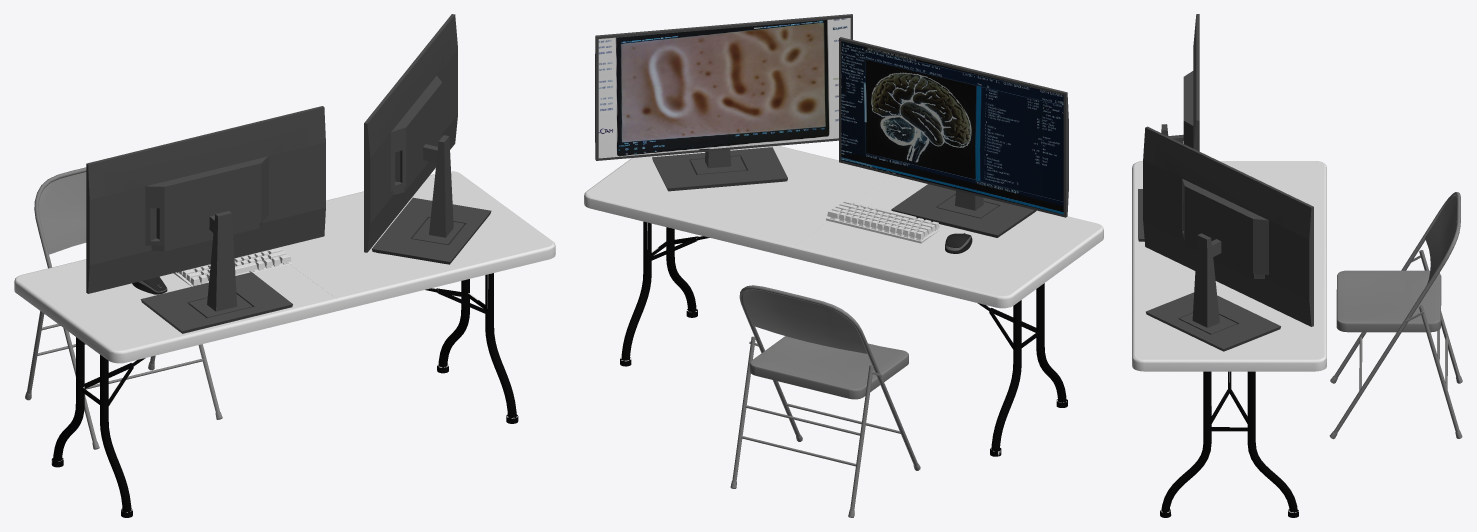
The model's file is ComputerDesk.fbx.
3 views of the same model, side by side, from view 1: azimuth 30°, elevation 25°; view 2: azimuth 150°, elevation 25°; view 3: azimuth 270°, elevation 25° (orthographic). The views are drawn at different scales.
Visible parts, largest first — view 1: Monitor, Table, Monitor2, chair, Keyboard; view 2: Table, Monitor2, Monitor, chair, Keyboard; view 3: Monitor2, Table, chair, Monitor.
Boxes of the visible parts, bbox=[...] form: Monitor: bbox=[86, 106, 325, 333]; Table: bbox=[14, 171, 555, 517]; Monitor2: bbox=[364, 14, 491, 264]; chair: bbox=[25, 167, 222, 449]; Keyboard: bbox=[173, 247, 292, 286]; Table: bbox=[584, 145, 1103, 456]; Monitor2: bbox=[595, 14, 852, 191]; Monitor: bbox=[839, 37, 1068, 237]; chair: bbox=[730, 285, 920, 517]; Keyboard: bbox=[826, 200, 940, 243]; Monitor2: bbox=[1143, 126, 1313, 351]; Table: bbox=[1132, 161, 1326, 517]; chair: bbox=[1329, 192, 1462, 439]; Monitor: bbox=[1138, 14, 1199, 241].
Bounding box in the file's own units: 181 × 140 × 126.
